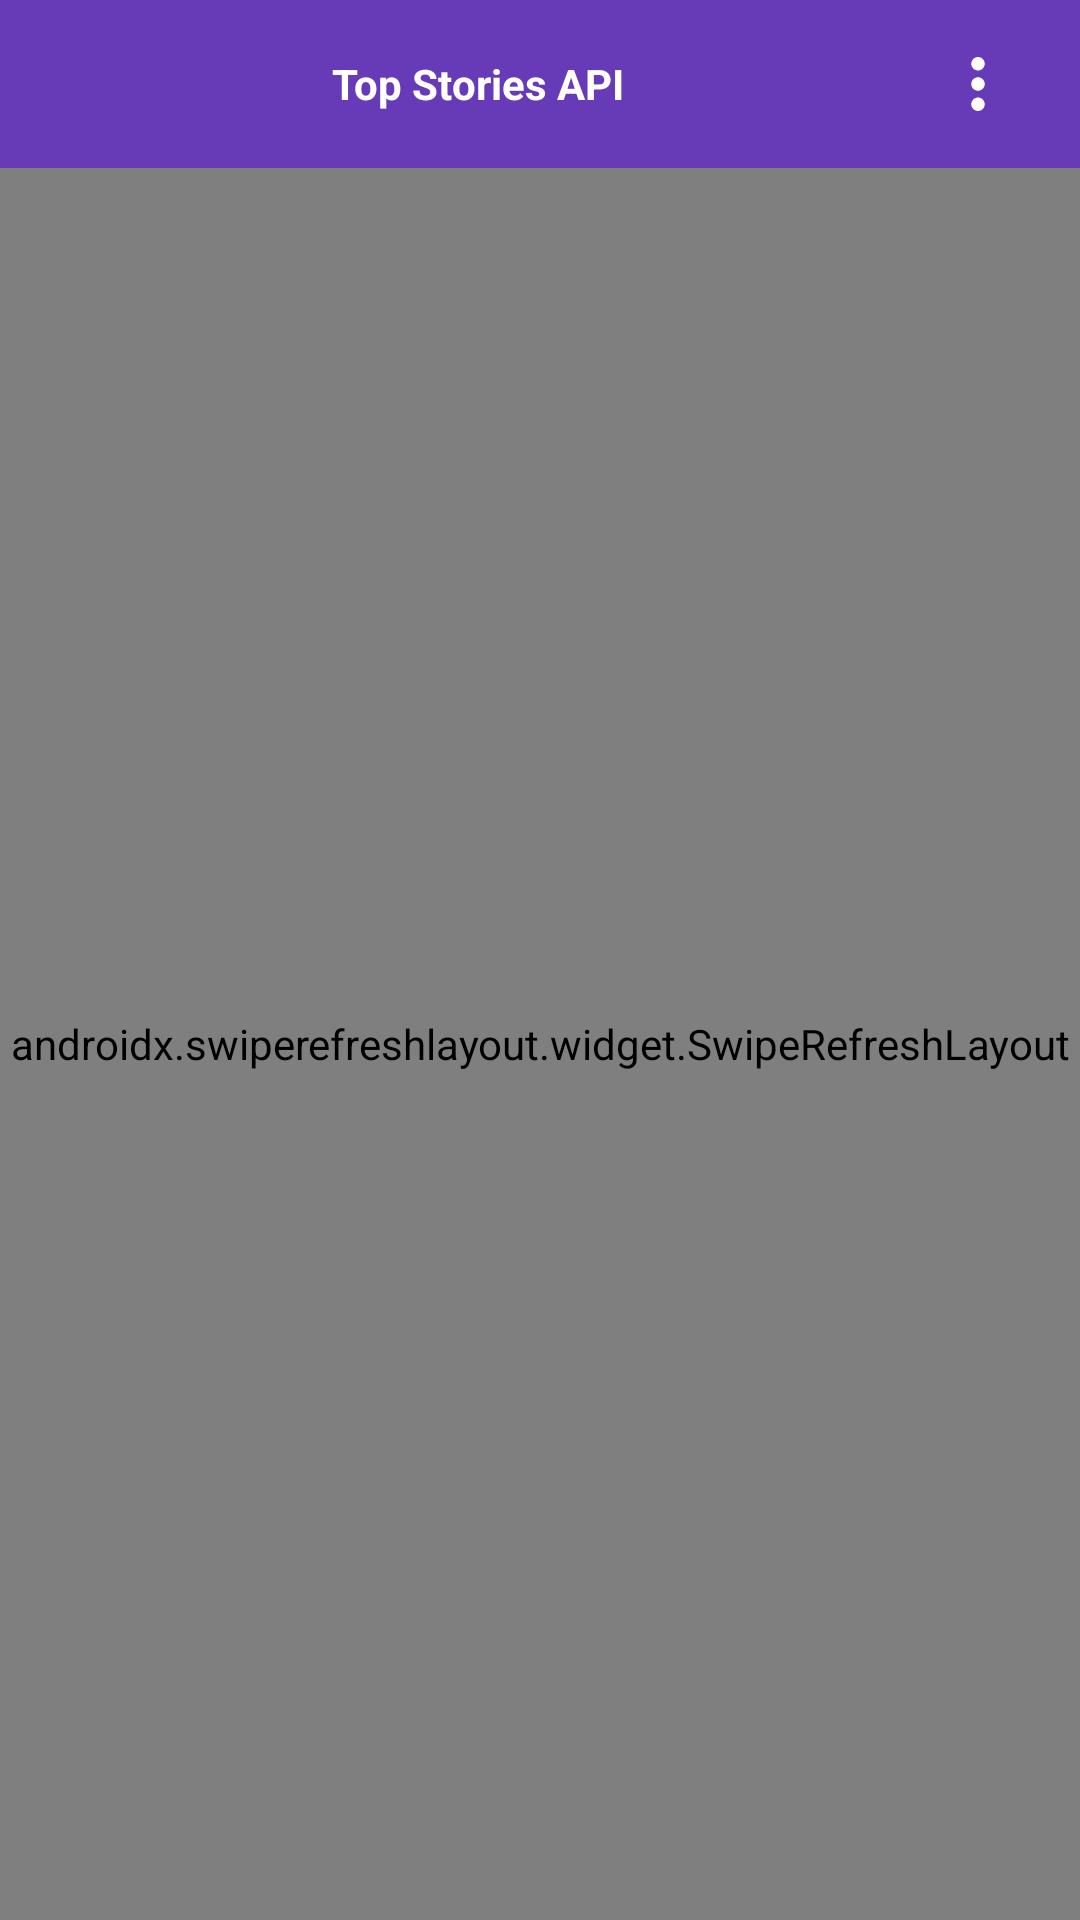

Icons on this 1080 × 1920 Android screen, each with its box as Rect(x1, y1, x2, y2):
Menu filter: Rect(971, 57, 985, 111)
